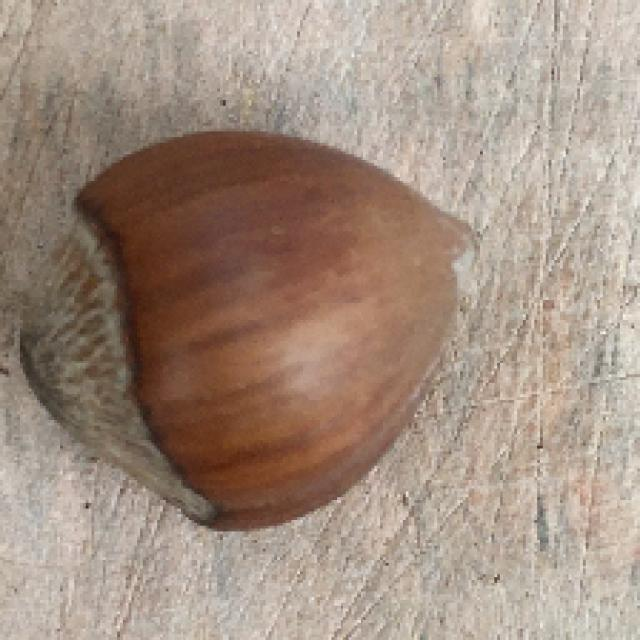qualityHazelnut: (17, 127, 492, 532)
